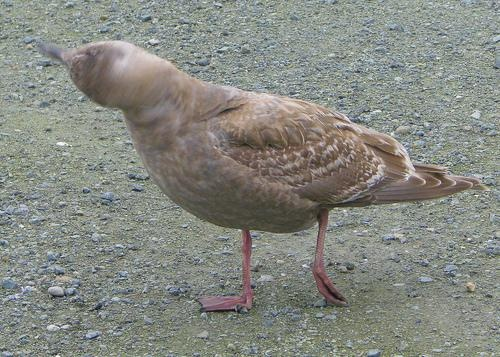bird: (36, 36, 489, 307)
